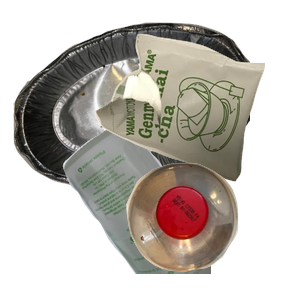glass: (60, 120, 300, 300)
metal: (11, 20, 251, 200)
plastic: (124, 161, 300, 300)
trash: (93, 31, 300, 205)
